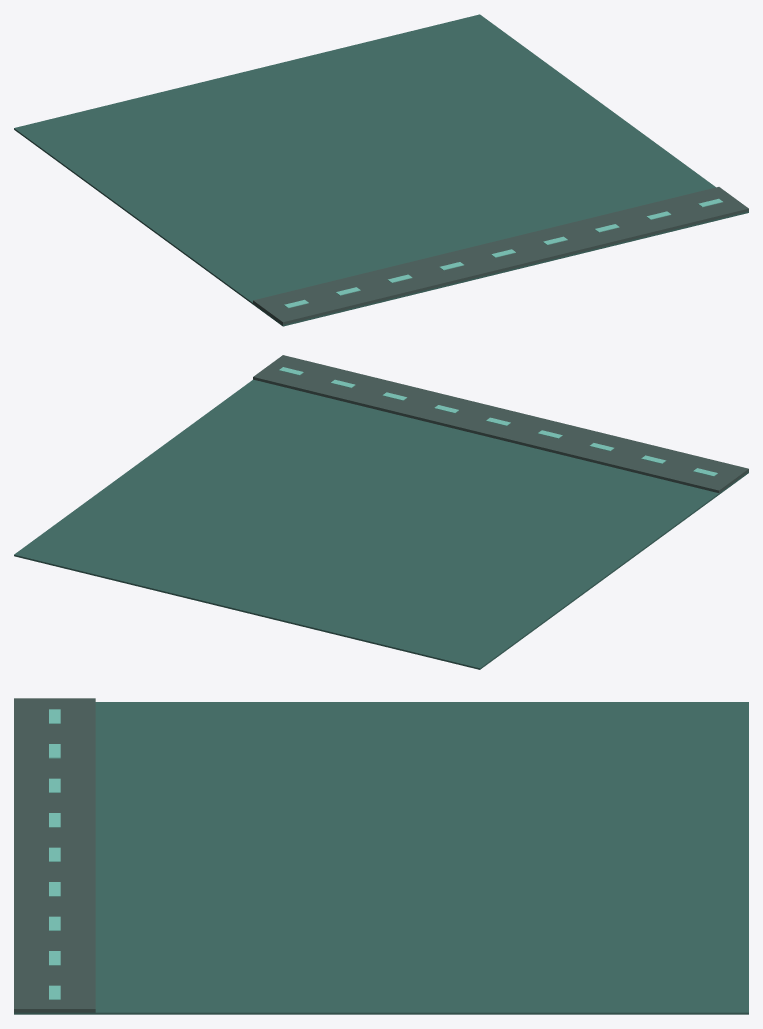
File: stage_00.glb
3 renders of one model, top to bottom at view 1: azimuth 30°, elevation 25°; view 2: azimuth 150°, elevation 25°; view 3: azimuth 270°, elevation 25°, orthographic. The views are drawn at different scales.
Visible parts, largest first — view 1: geometry_0; view 2: geometry_0; view 3: geometry_0.
Part boxes in pixels (x1=…): geometry_0: x1=14, y1=14, x2=748, y2=326; geometry_0: x1=14, y1=355, x2=748, y2=669; geometry_0: x1=14, y1=698, x2=748, y2=1014.
Size of the model in its own units: 9 by 0.091 by 9.
